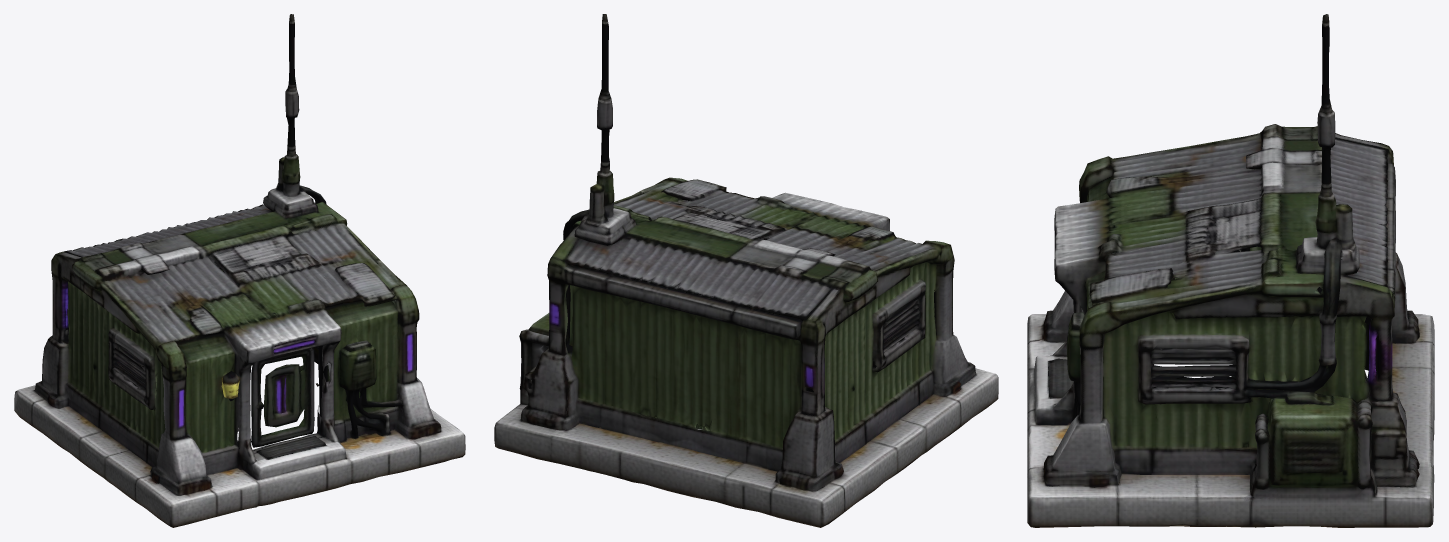
File: comms_l01.glb
The picture shows the model from 3 angles, left to right: view 1: azimuth 30°, elevation 25°; view 2: azimuth 150°, elevation 25°; view 3: azimuth 270°, elevation 25°; orthographic projection. The views are drawn at different scales.
Parts seen in each view (by area): view 1: world; view 2: world; view 3: world.
Part boxes in pixels (x1,y1,x2,y2): world: [14, 14, 465, 527]; world: [494, 14, 998, 527]; world: [1027, 14, 1434, 527].
Bounding box in the file's own units: 0.8494 × 1 × 0.7726.
1 material, 1 textured.
